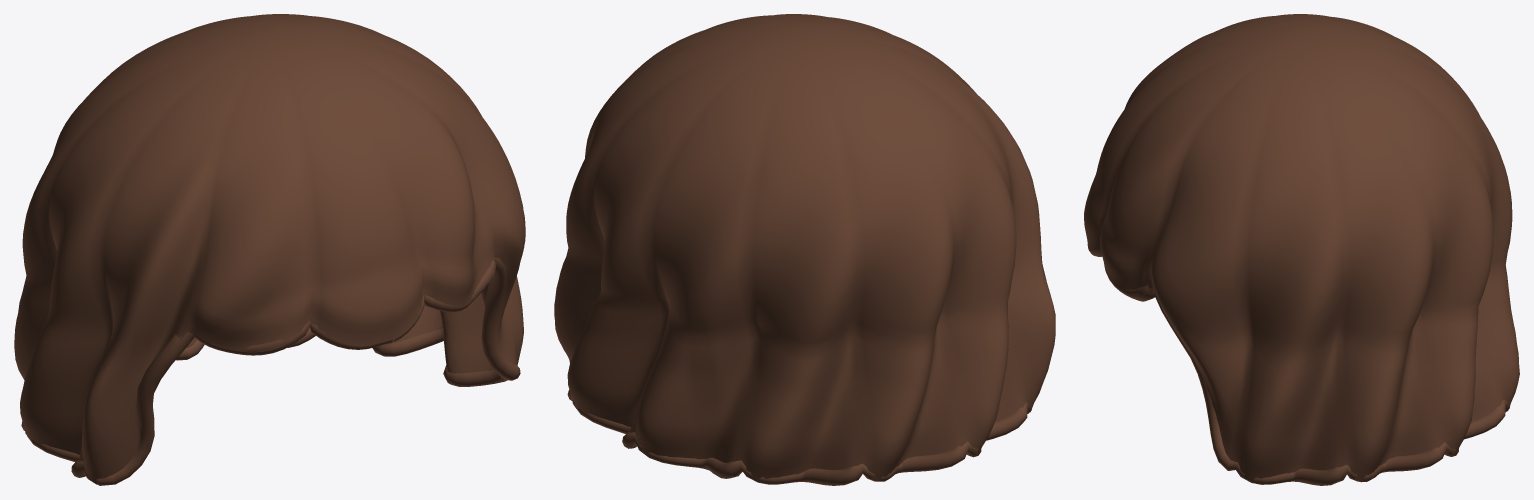
Rendered from hair_g_bobperm.glb.
3 renders of one model, left to right at view 1: azimuth 30°, elevation 25°; view 2: azimuth 150°, elevation 25°; view 3: azimuth 270°, elevation 25°, orthographic. The views are drawn at different scales.
Visible parts, largest first — view 1: Hair_G_BOBPERM; view 2: Hair_G_BOBPERM; view 3: Hair_G_BOBPERM.
Part boxes in pixels (x1=…): Hair_G_BOBPERM: x1=14, y1=14, x2=525, y2=485; Hair_G_BOBPERM: x1=554, y1=14, x2=1055, y2=485; Hair_G_BOBPERM: x1=1084, y1=14, x2=1519, y2=485.
Bounding box in the file's own units: 0.6703 × 0.5447 × 0.5927.
